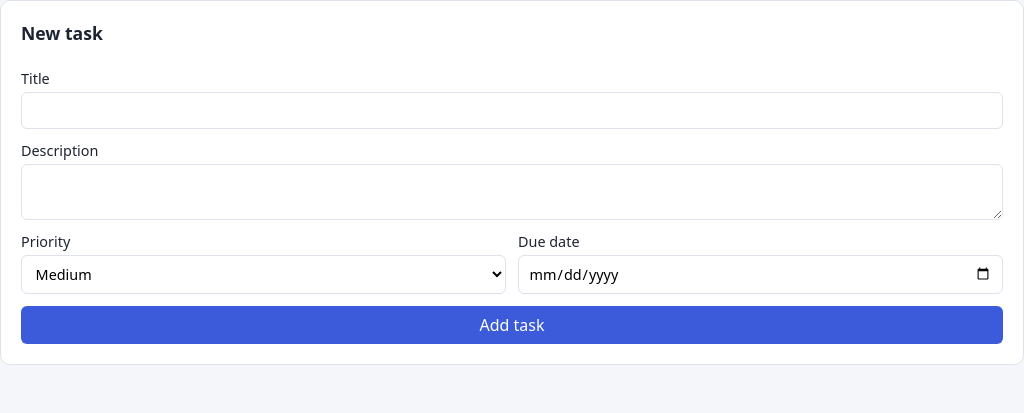
Test: TaskForm › shows the server error when creation fails
Type "Oops" into the field labelled "Title" at point(512, 110), box top-left (21, 92), bottom-right (1003, 129)
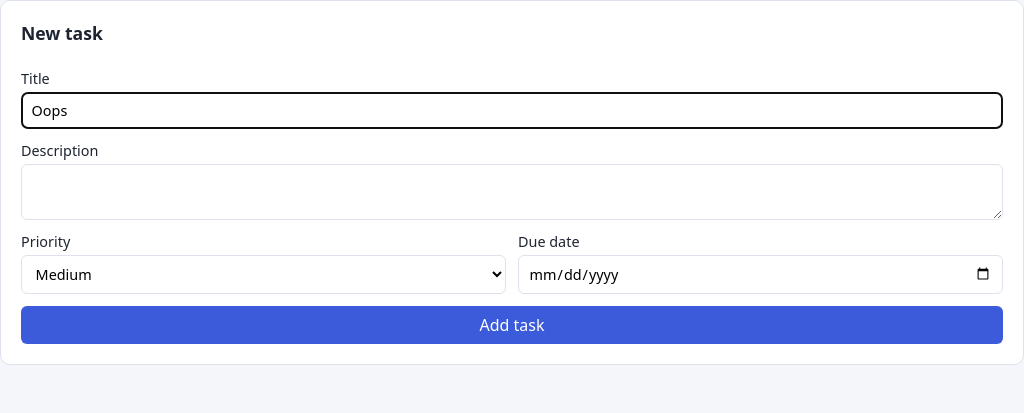
Click the button "Add task" at point(512, 325), box top-left (21, 306), bottom-right (1003, 344)
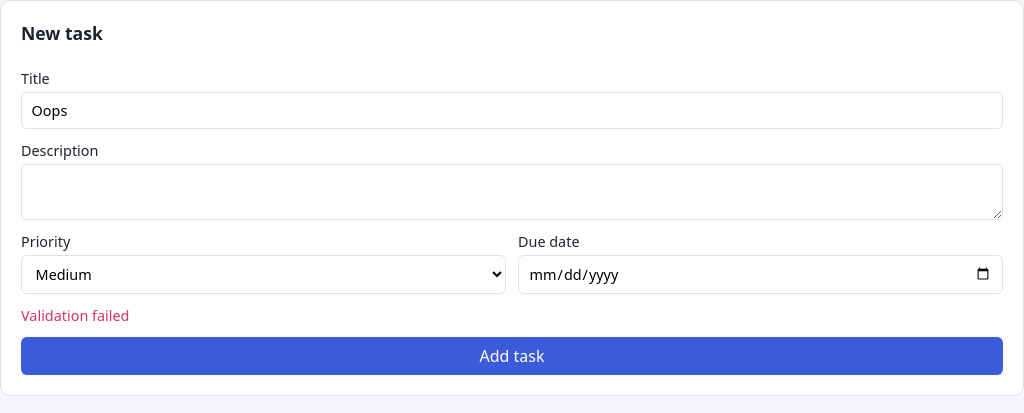
Result: the message reads "Validation failed" at top-left (21, 306), bottom-right (129, 325)
